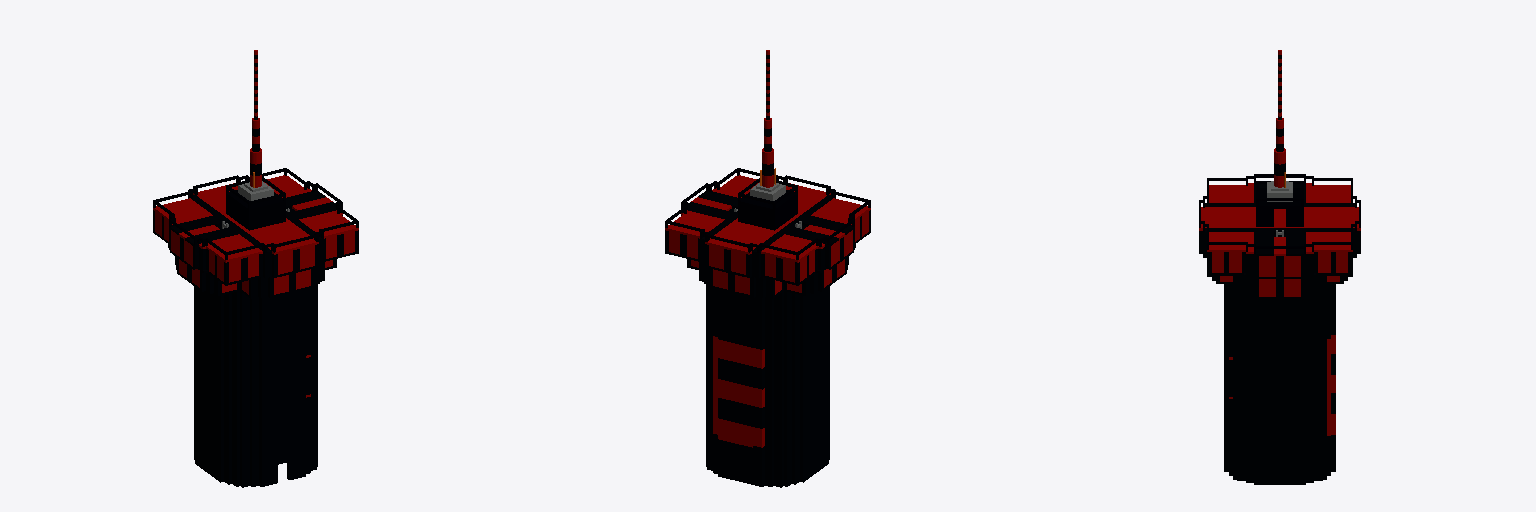
The model's file is Tower.obj.
3 views of the same model, side by side, from view 1: azimuth 30°, elevation 25°; view 2: azimuth 150°, elevation 25°; view 3: azimuth 270°, elevation 25° (orthographic).
Visible parts, largest first — view 1: Wallbrick9, Railing82, Wallbrick17, Wallbrick11, Wallbrick2; view 2: Wallbrick9, Railing85, Wallbrick11, Wallbrick17, Wallbrick7; view 3: Wallbrick9, Wallbrick11, Wallbrick17, Wallbrick2, Wallbrick7, Wallbrick8.
Part boxes in pixels (left/top/right/bottom): Wallbrick9: left=193, top=183, right=318, bottom=254; Railing82: left=248, top=203, right=285, bottom=230; Wallbrick17: left=206, top=237, right=262, bottom=262; Wallbrick11: left=153, top=198, right=207, bottom=220; Wallbrick2: left=304, top=214, right=358, bottom=238; Wallbrick9: left=705, top=183, right=830, bottom=254; Railing85: left=738, top=203, right=775, bottom=230; Wallbrick11: left=761, top=237, right=817, bottom=262; Wallbrick17: left=816, top=198, right=870, bottom=220; Wallbrick7: left=665, top=214, right=719, bottom=238; Wallbrick9: left=1199, top=207, right=1360, bottom=230; Wallbrick11: left=1314, top=185, right=1350, bottom=202; Wallbrick17: left=1209, top=185, right=1245, bottom=202; Wallbrick2: left=1207, top=232, right=1245, bottom=251; Wallbrick7: left=1314, top=232, right=1352, bottom=251; Wallbrick8: left=1203, top=228, right=1356, bottom=233.
Size of the model in its own units: 80 by 212 by 76.